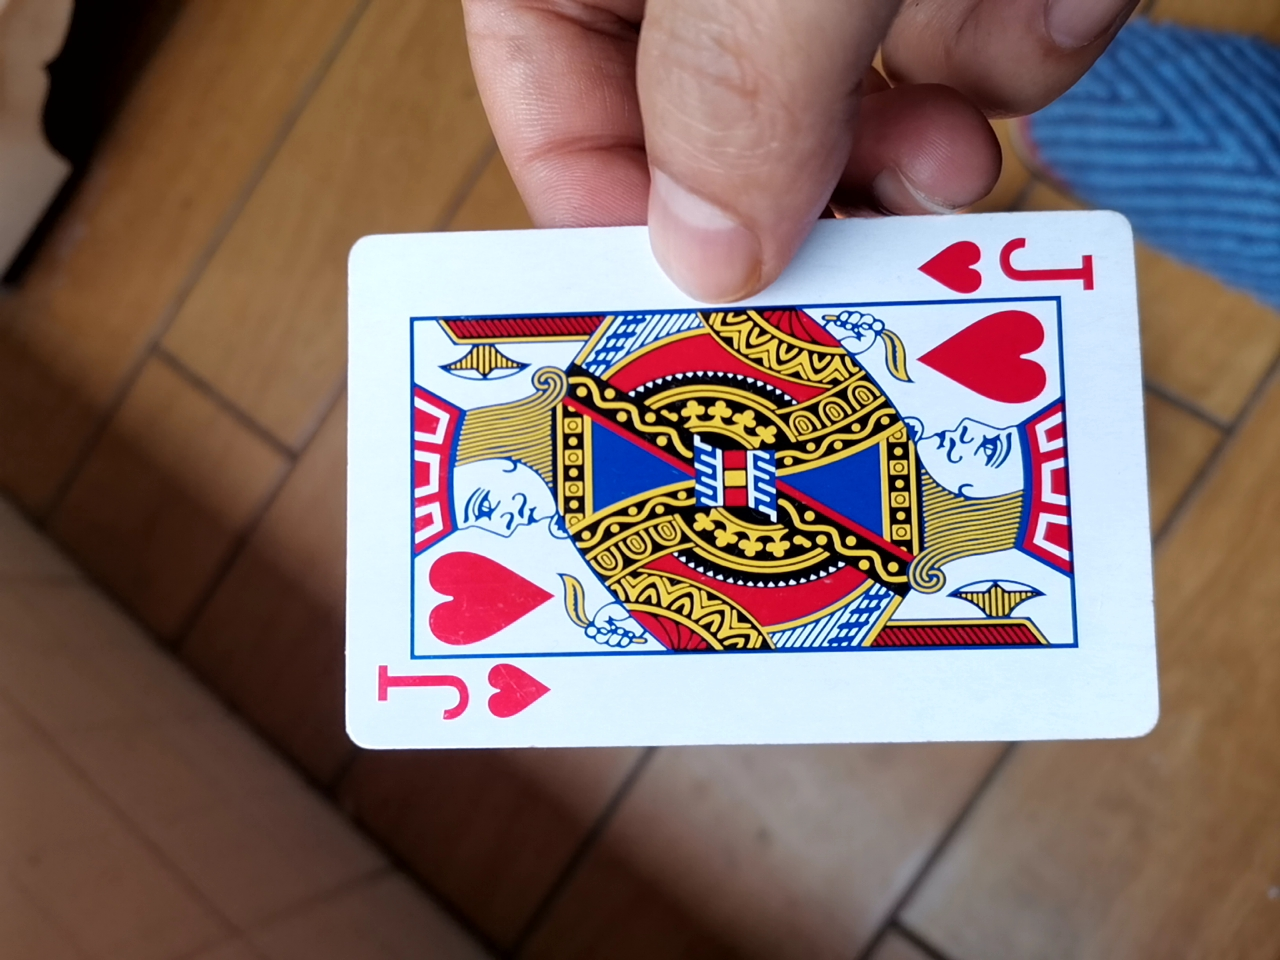hx j: (318, 199, 1144, 760)
